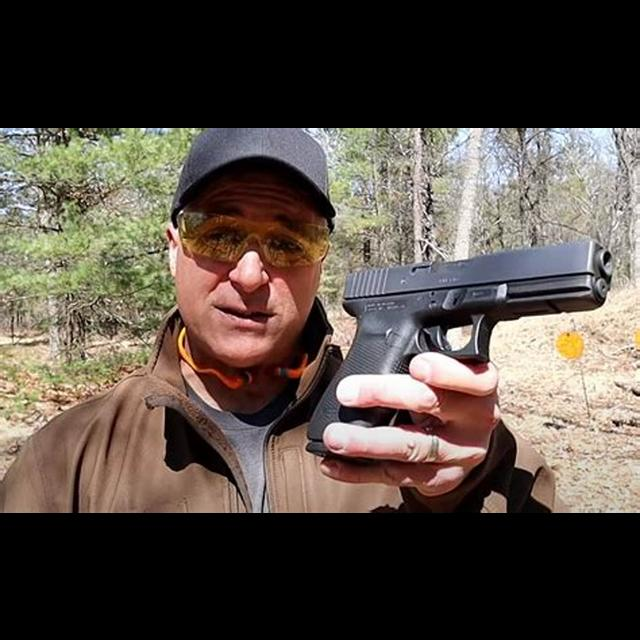handgun: (303, 234, 619, 472)
